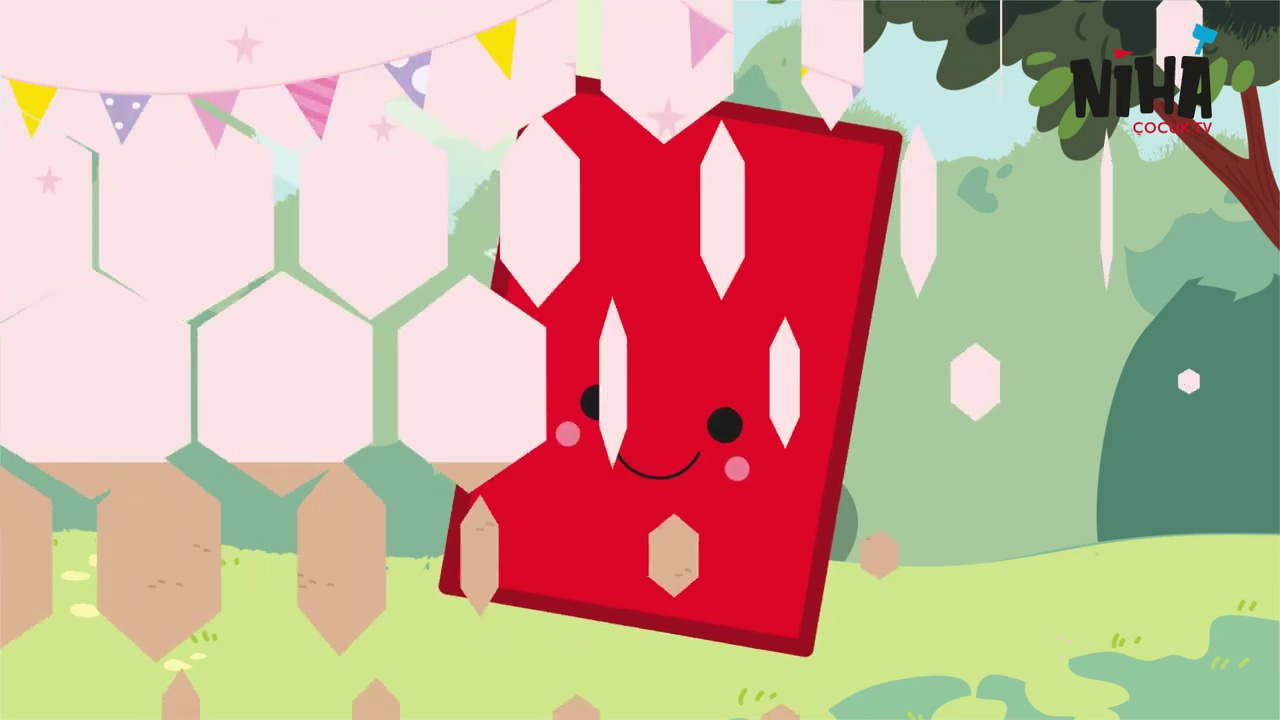dikdortgen: (441, 68, 904, 665)
